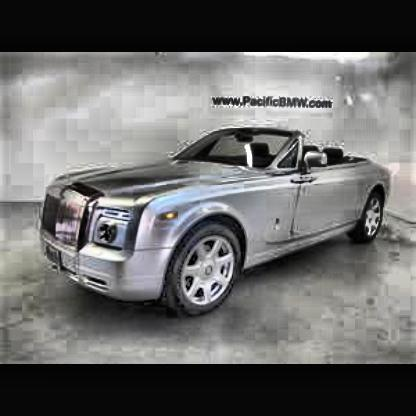Rolls-Royce Phantom Drophead Coupe Convertible 2012: (42, 127, 395, 322)
